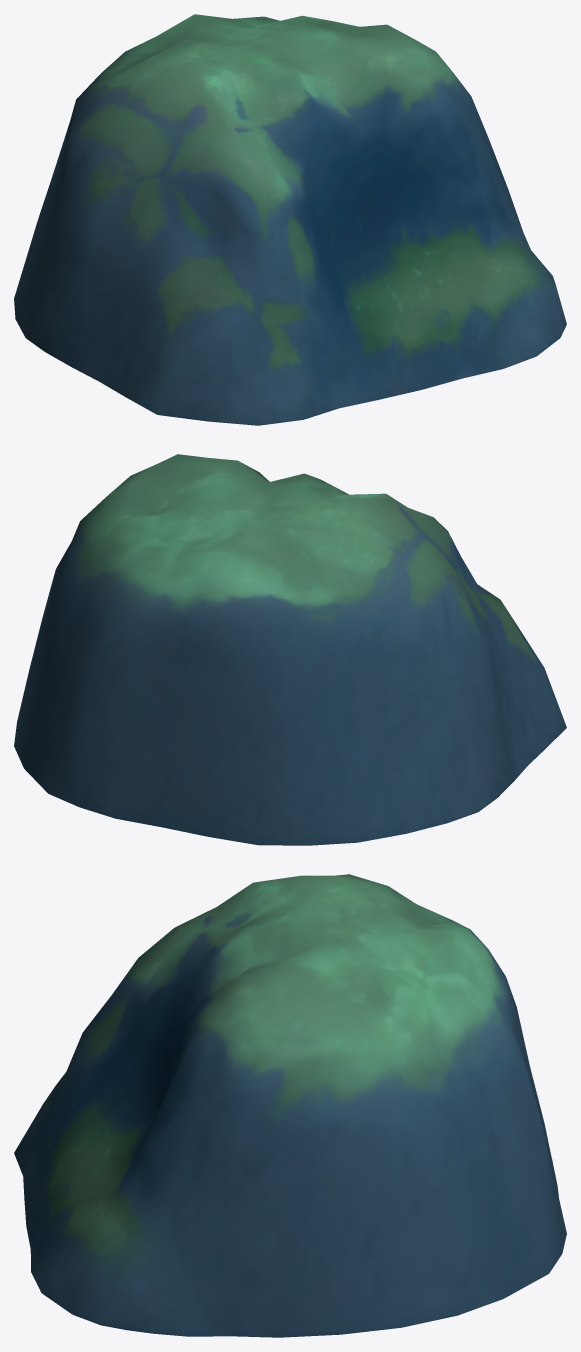
The model's file is Meshy_AI_model_20261128_texture.fbx.
The picture shows the model from 3 angles, top to bottom: view 1: azimuth 30°, elevation 25°; view 2: azimuth 150°, elevation 25°; view 3: azimuth 270°, elevation 25°; orthographic projection. The views are drawn at different scales.
Parts seen in each view (by area): view 1: geometry_0; view 2: geometry_0; view 3: geometry_0.
Part boxes in pixels (bbox=[...]): geometry_0: bbox=[14, 14, 566, 425]; geometry_0: bbox=[14, 454, 566, 845]; geometry_0: bbox=[14, 874, 566, 1337].
Bounding box in the file's own units: 100 × 56.08 × 95.27.
Materials: 1 (1 with a texture image).
